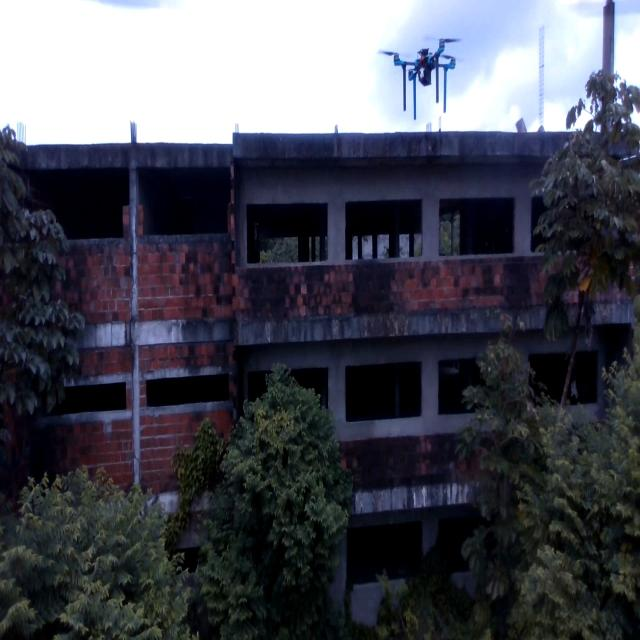-uav-: (370, 27, 464, 126)
